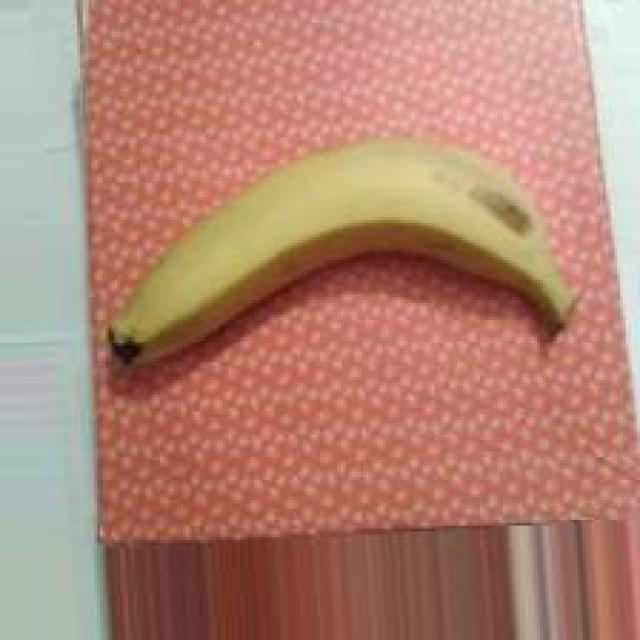banana: (92, 120, 595, 409)
